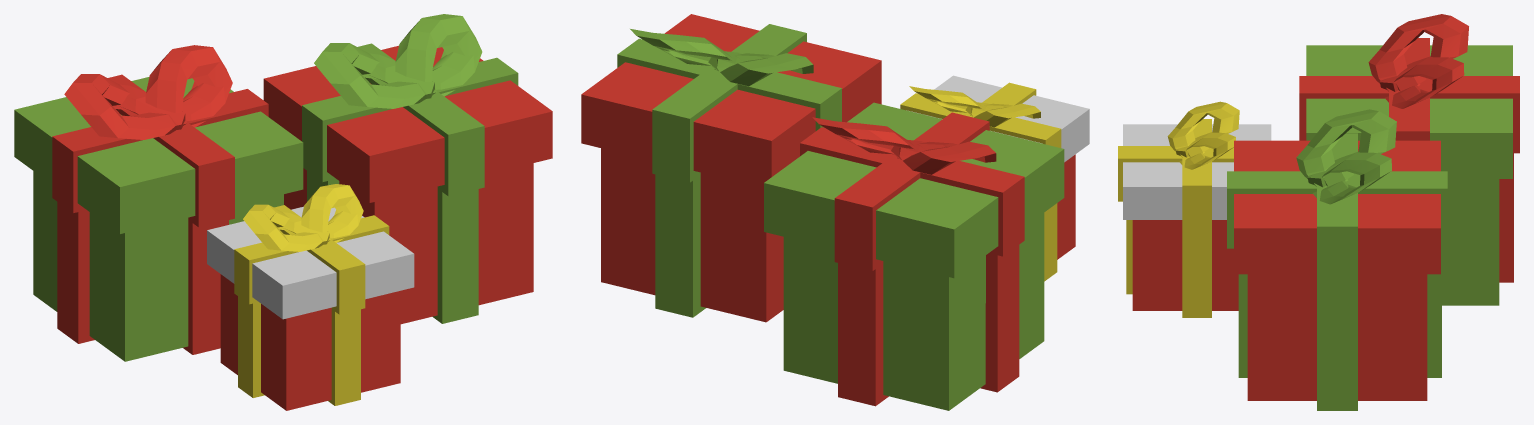
The model's file is gift3.gltf.
3 renders of one model, left to right at view 1: azimuth 30°, elevation 25°; view 2: azimuth 150°, elevation 25°; view 3: azimuth 270°, elevation 25°, orthographic. The views are drawn at different scales.
Parts seen in each view (by area): view 1: node_MeshObject-2083330624-PolyPaper9; view 2: node_MeshObject-2083330624-PolyPaper9; view 3: node_MeshObject-2083330624-PolyPaper9.
Boxes of the visible parts, bbox=[...] form: node_MeshObject-2083330624-PolyPaper9: bbox=[14, 14, 552, 410]; node_MeshObject-2083330624-PolyPaper9: bbox=[581, 14, 1089, 410]; node_MeshObject-2083330624-PolyPaper9: bbox=[1118, 14, 1519, 410].
Bounding box in the file's own units: 2.36 × 1.33 × 2.06.
